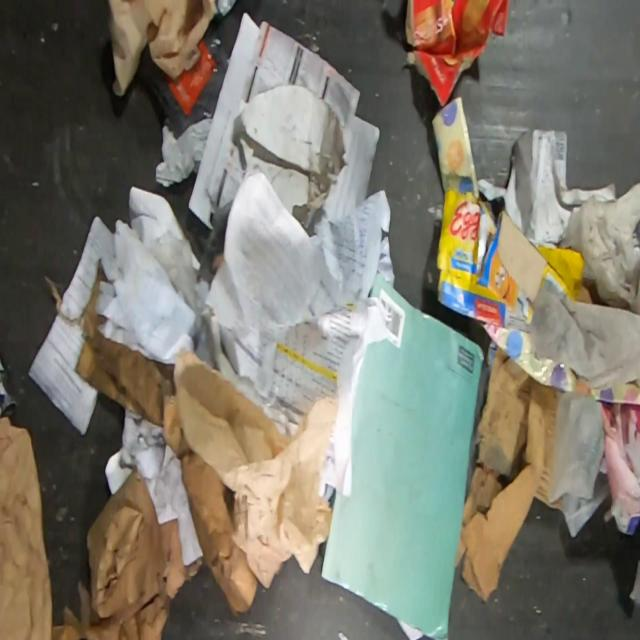cardboard: (319, 271, 486, 639), (454, 345, 566, 603), (52, 465, 204, 640), (435, 188, 586, 332), (75, 265, 176, 428), (238, 83, 348, 231), (175, 428, 259, 617), (479, 322, 640, 406), (0, 416, 53, 639), (402, 0, 510, 108), (431, 95, 481, 199)
soft_plastic: (529, 179, 640, 388), (139, 23, 231, 138), (546, 391, 610, 540), (154, 118, 213, 188)
